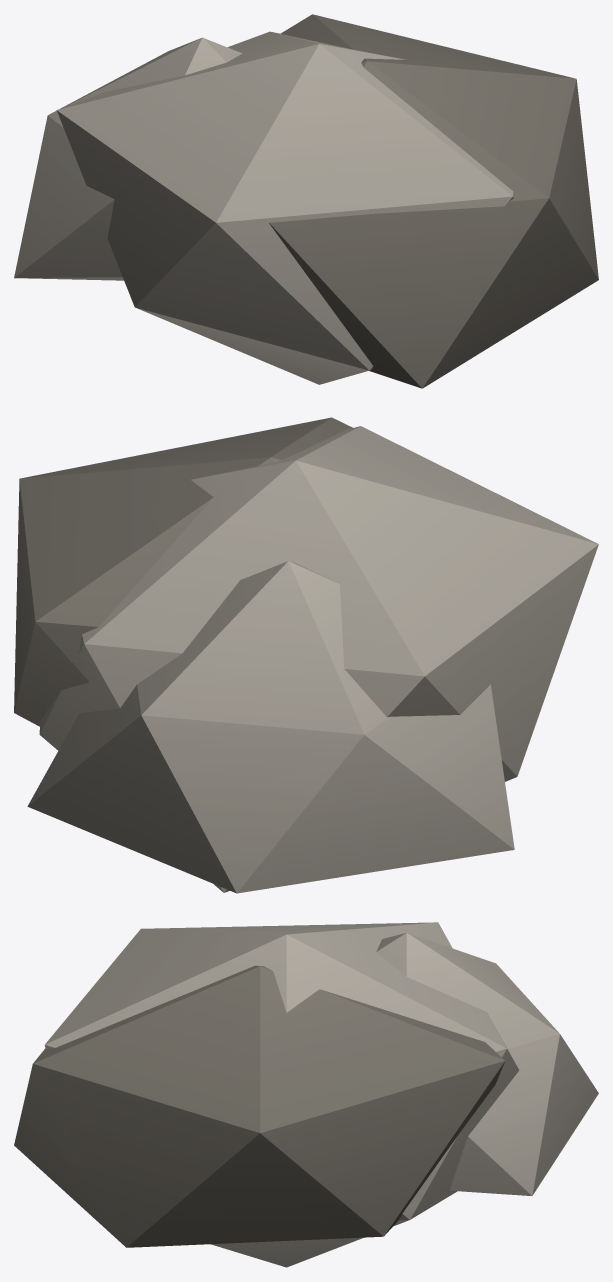
Rendered from rock_0.glb.
3 renders of one model, top to bottom at view 1: azimuth 30°, elevation 25°; view 2: azimuth 150°, elevation 25°; view 3: azimuth 270°, elevation 25°, orthographic. The views are drawn at different scales.
Parts seen in each view (by area): view 1: rock_0; view 2: rock_0; view 3: rock_0.
Part boxes in pixels (x1=…): rock_0: x1=14, y1=14, x2=598, y2=388; rock_0: x1=14, y1=417, x2=598, y2=893; rock_0: x1=14, y1=922, x2=598, y2=1267.
Bounding box in the file's own units: 0.9899 × 0.6615 × 1.05.
Materials: 1 (1 with a texture image).
